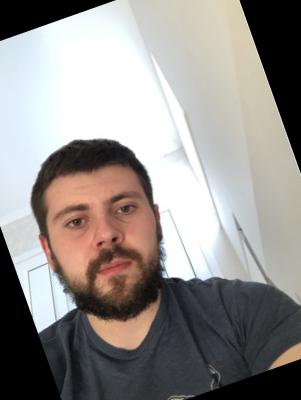without_mask: (39, 171, 185, 338)
